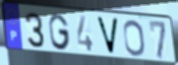3: (24, 11, 46, 49)
4: (77, 15, 94, 54)
7: (148, 20, 167, 62)
G: (48, 13, 72, 52)
O: (122, 19, 147, 58)
V: (95, 15, 120, 56)
